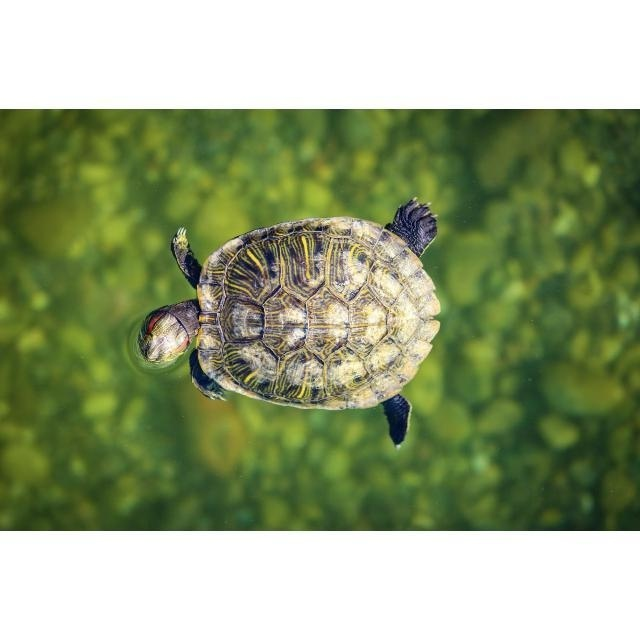turtle: (137, 194, 446, 449)
